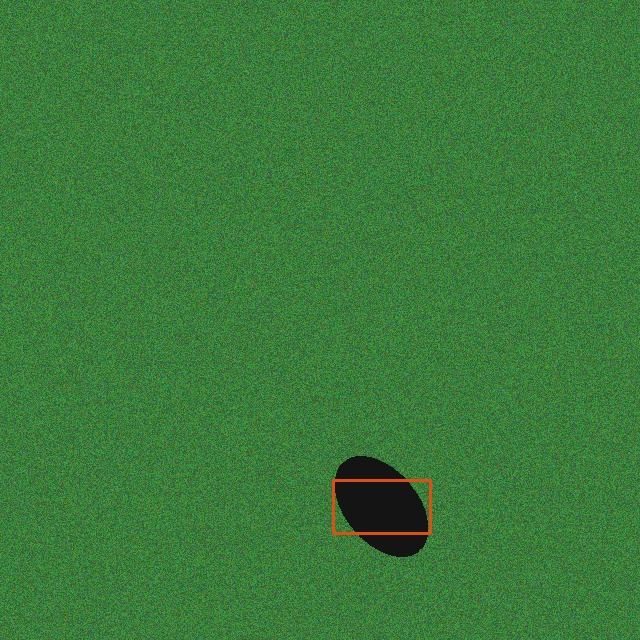blister beetle: (323, 470, 440, 543)
